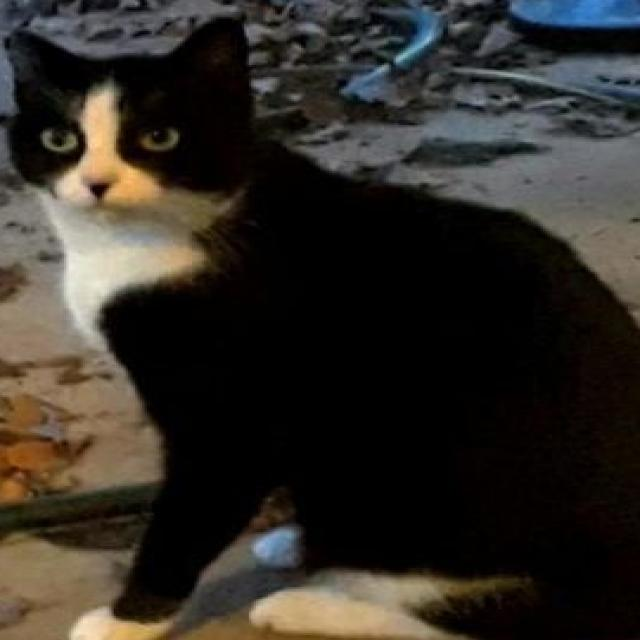Tuxedo: (2, 13, 639, 640)
